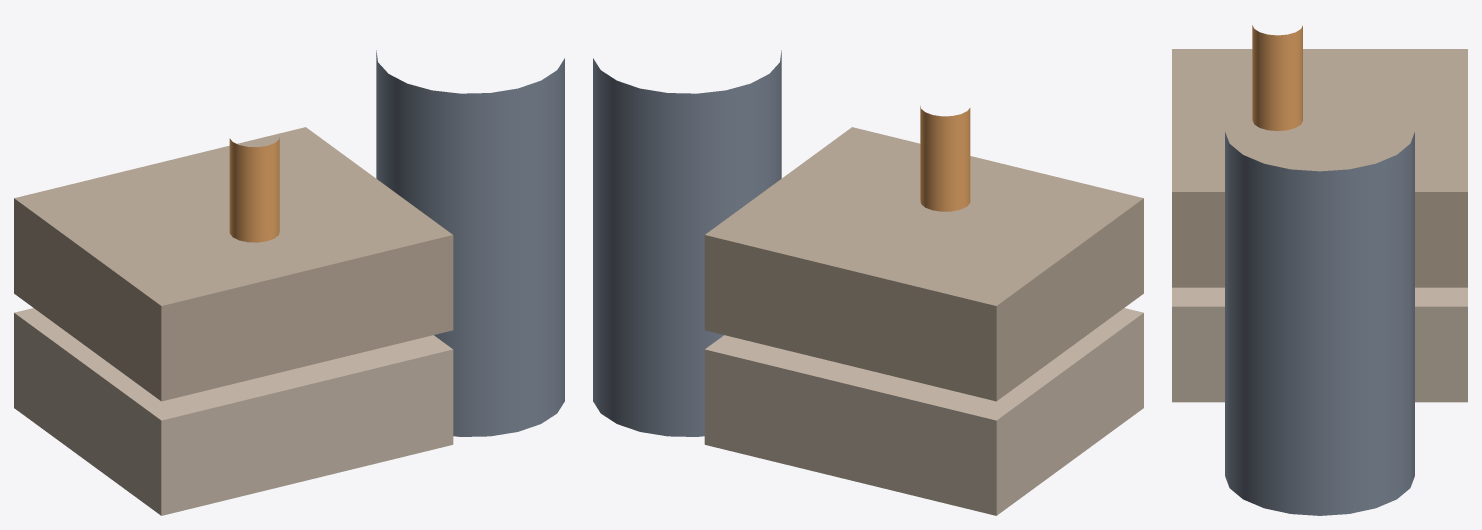
File: casting_process.glb
3 views of the same model, side by side, from view 1: azimuth 30°, elevation 25°; view 2: azimuth 150°, elevation 25°; view 3: azimuth 270°, elevation 25° (orthographic).
Visible parts, largest first — view 1: MoldingFlaskCope, MoldingFlaskDrag, CupolaFurnaceShell, GatingSprueRiser; view 2: MoldingFlaskCope, MoldingFlaskDrag, CupolaFurnaceShell, GatingSprueRiser; view 3: CupolaFurnaceShell, MoldingFlaskCope, MoldingFlaskDrag, GatingSprueRiser.
Part boxes in pixels (x1,y1,x2,y2): MoldingFlaskCope: [14, 127, 453, 401]; MoldingFlaskDrag: [14, 308, 453, 515]; CupolaFurnaceShell: [376, 50, 564, 436]; GatingSprueRiser: [229, 137, 279, 242]; MoldingFlaskCope: [704, 127, 1143, 401]; MoldingFlaskDrag: [704, 308, 1143, 515]; CupolaFurnaceShell: [593, 50, 781, 436]; GatingSprueRiser: [920, 105, 970, 211]; CupolaFurnaceShell: [1225, 132, 1414, 515]; MoldingFlaskCope: [1172, 49, 1467, 287]; MoldingFlaskDrag: [1172, 287, 1467, 402]; GatingSprueRiser: [1252, 25, 1302, 130].
Bounding box in the file's own units: 2.55 × 1.8 × 1.4.
